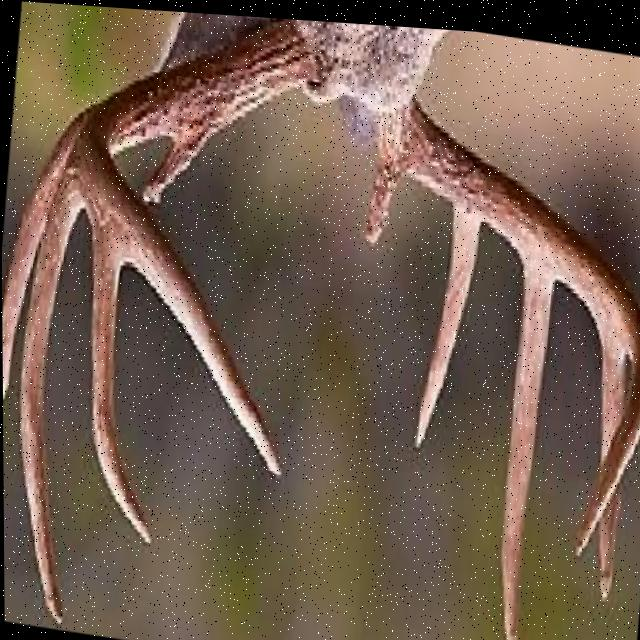L-F: (374, 87, 640, 559)
L-G1: (358, 143, 406, 245)
L-G2: (410, 198, 482, 454)
L-G3: (498, 255, 555, 640)
R-F: (77, 14, 333, 476)
R-G1: (140, 132, 212, 204)
R-G2: (2, 107, 87, 409)
R-G3: (16, 147, 85, 627)
R-G4: (87, 227, 154, 547)
